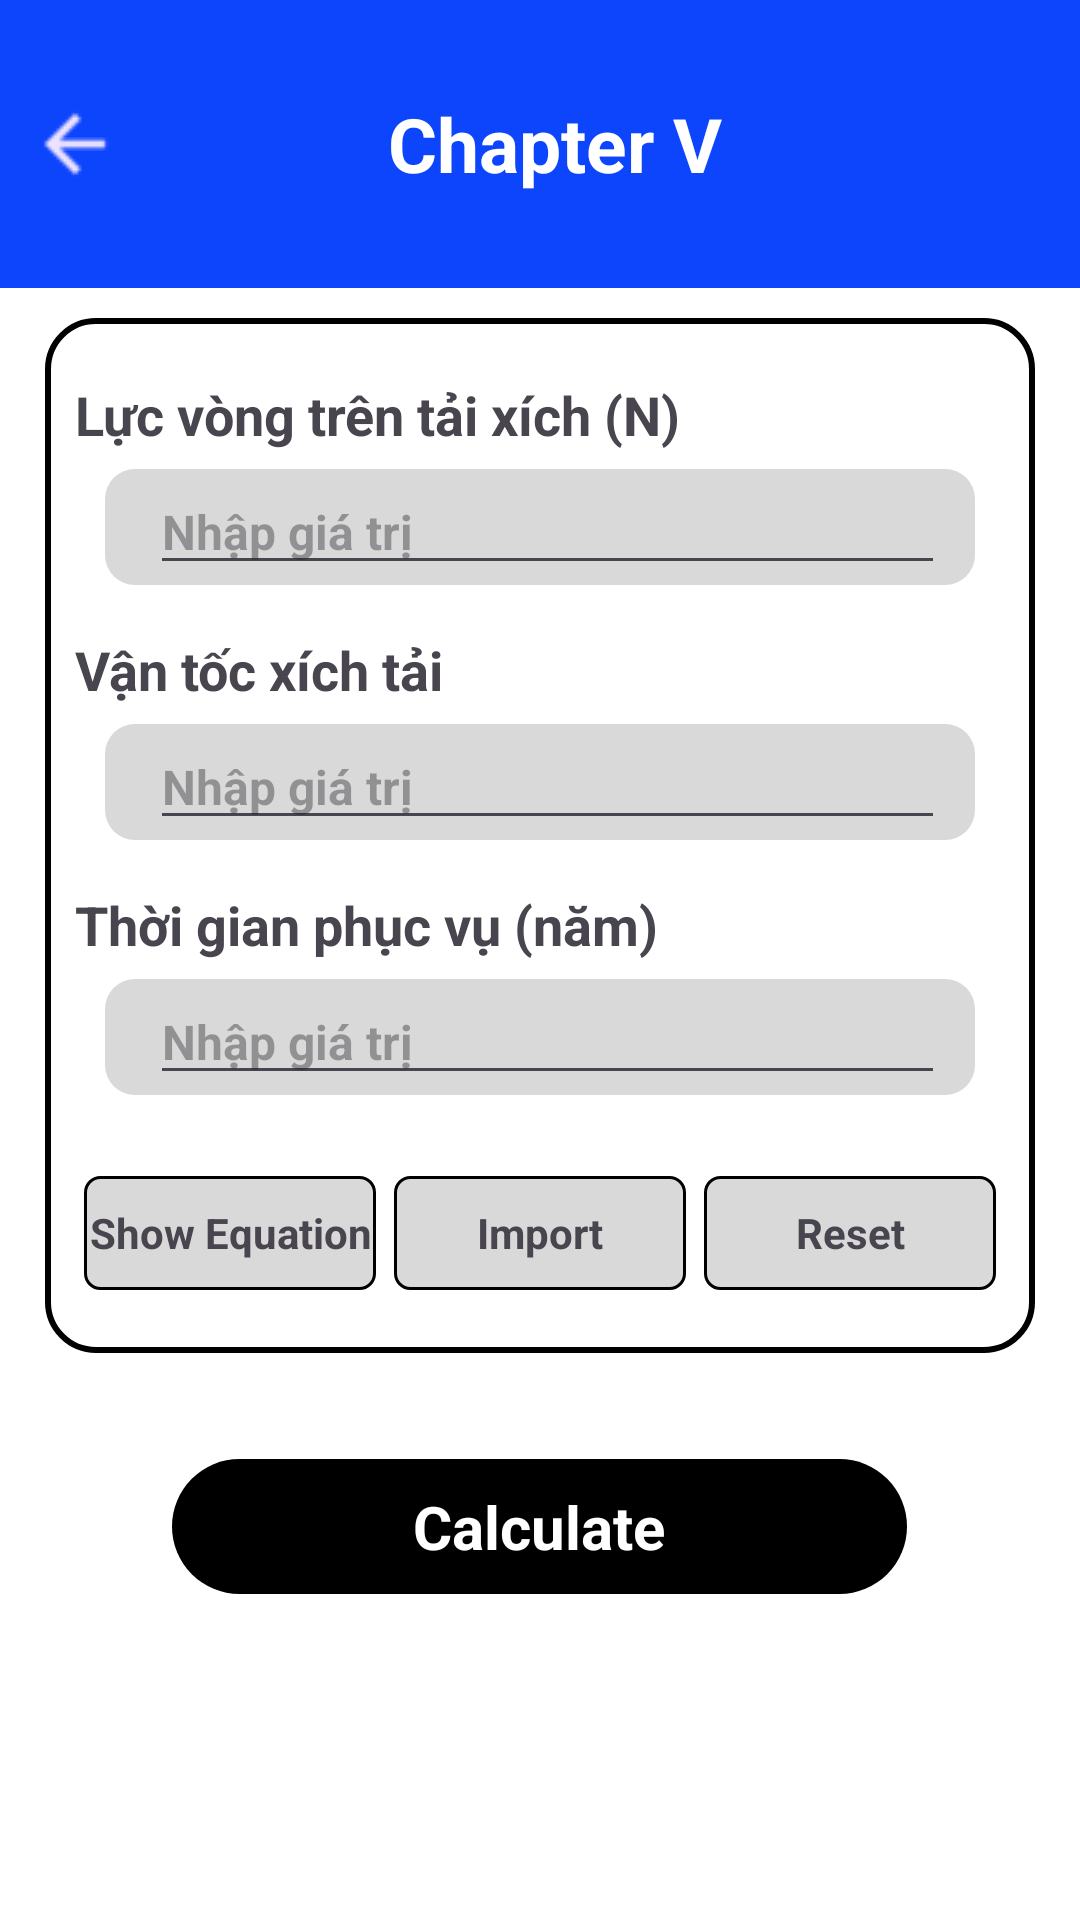

Where icons sit on this 1080w x 1920h app screen, as (x1=x1, y1=y1, x2=x2, y2=y2):
arrow back: (x1=44, y1=113, x2=106, y2=175)
